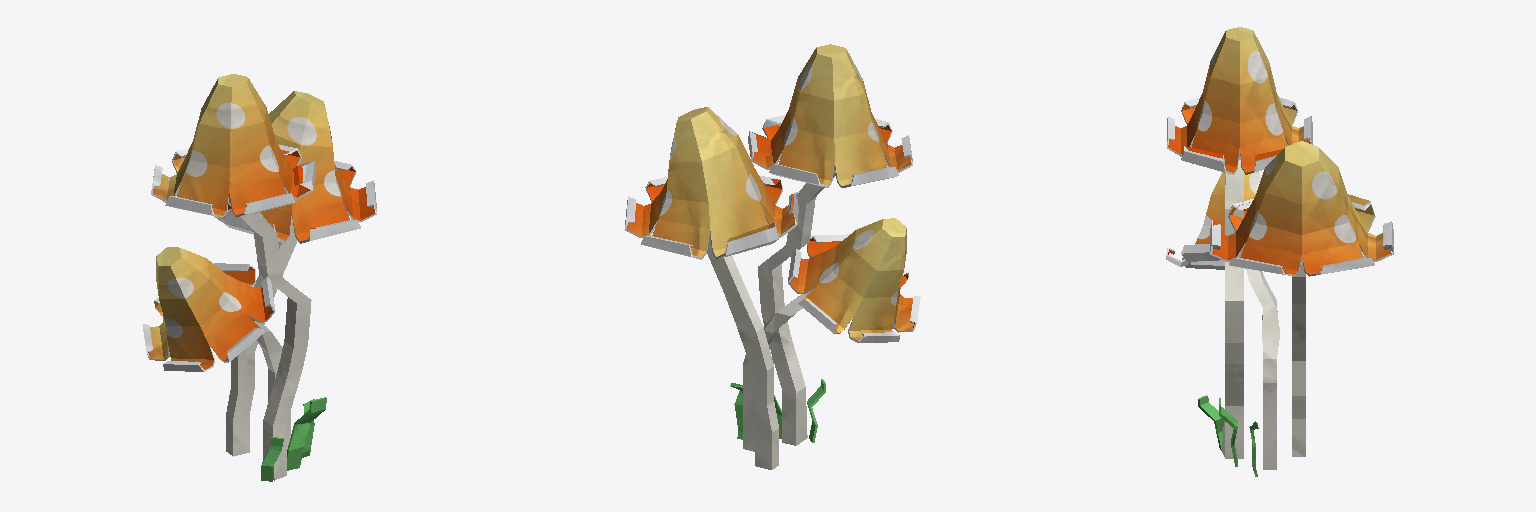
3 renders of one model, left to right at view 1: azimuth 30°, elevation 25°; view 2: azimuth 150°, elevation 25°; view 3: azimuth 270°, elevation 25°, orthographic.
Visible parts, largest first — view 1: Mushroom_three; view 2: Mushroom_three; view 3: Mushroom_three.
Part boxes in pixels (x1,y1,x2,y2): Mushroom_three: (142, 74, 376, 481); Mushroom_three: (625, 44, 920, 469); Mushroom_three: (1166, 27, 1393, 476).
Size of the model in its own units: 21.85 by 34.7 by 17.81.
Materials: 1 (1 with a texture image).